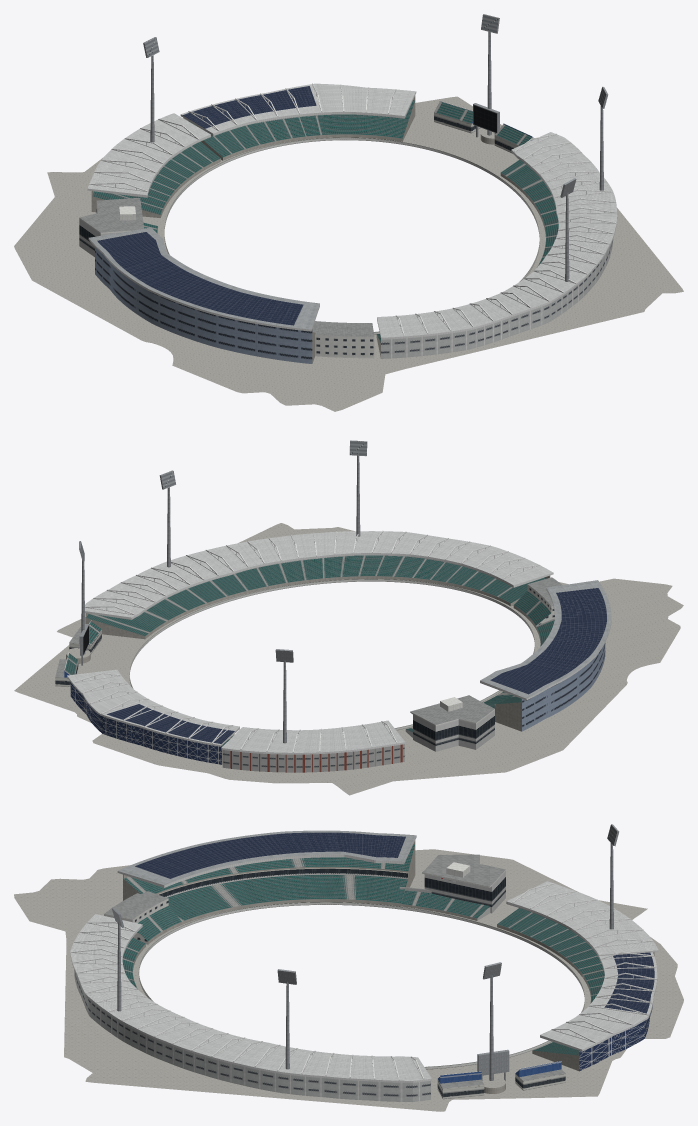
Rendered from york_park.glb.
3 renders of one model, top to bottom at view 1: azimuth 30°, elevation 25°; view 2: azimuth 150°, elevation 25°; view 3: azimuth 270°, elevation 25°, orthographic. The views are drawn at different scales.
Visible parts, largest first — view 1: roofs, concourse, stands, extras, towers, fence; view 2: roofs, stands, concourse, towers, fence, extras; view 3: roofs, stands, concourse, extras, towers, fence.
Boxes of the visible parts, x1,y1,x2,y2 form: roofs: [87, 83, 617, 339]; concourse: [14, 96, 683, 411]; stands: [79, 96, 613, 363]; extras: [434, 101, 534, 153]; towers: [143, 14, 608, 281]; fence: [164, 137, 539, 334]; roofs: [67, 530, 611, 754]; stands: [70, 555, 605, 772]; concourse: [14, 523, 683, 795]; towers: [79, 440, 367, 743]; fence: [129, 579, 534, 736]; extras: [55, 620, 101, 686]; roofs: [70, 830, 658, 1082]; stands: [74, 840, 654, 1101]; concourse: [14, 849, 683, 1111]; extras: [437, 877, 565, 1099]; towers: [111, 824, 619, 1080]; fence: [138, 902, 584, 1069].
Bounding box in the file's own units: 235 × 51.32 × 253.
25 materials, 25 textured.
